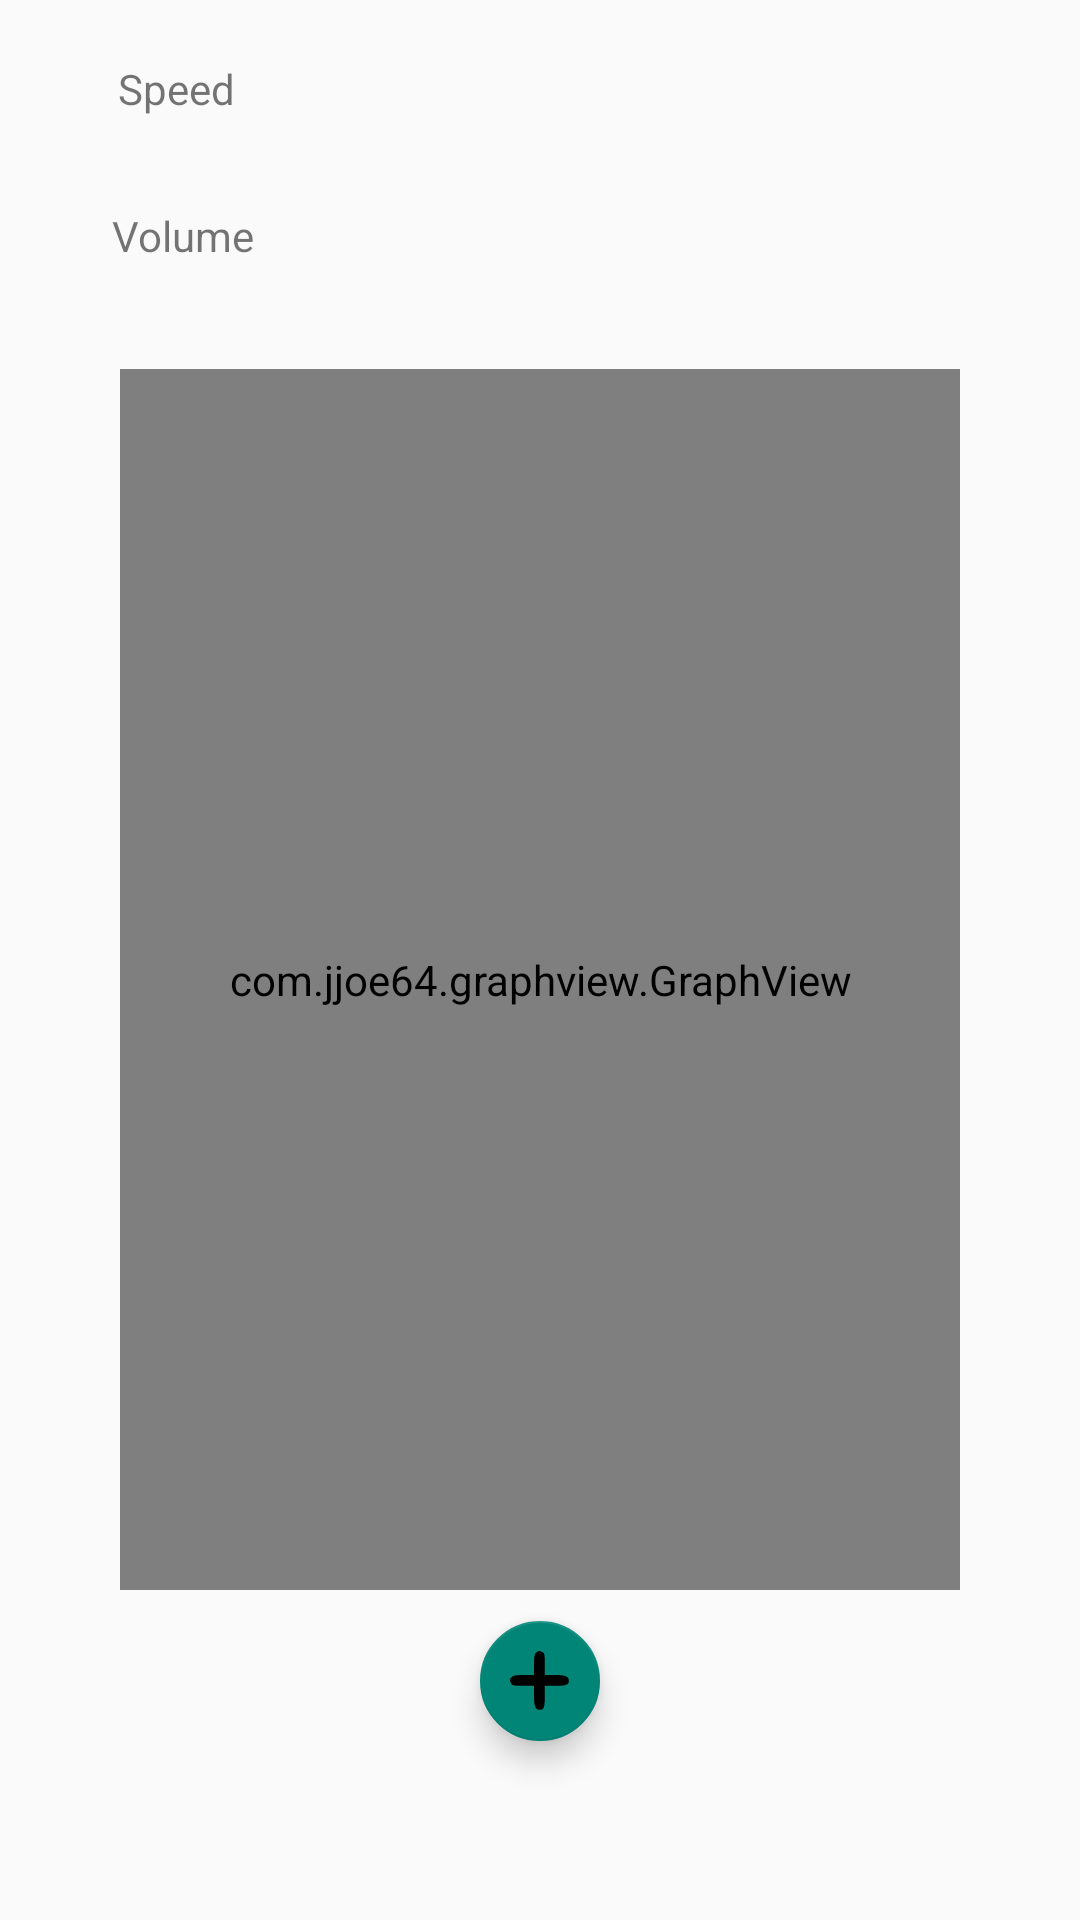

Icon click points for this 1080px x 1920px phone screenshot, format (x,y):
plusko: (540,1681)
